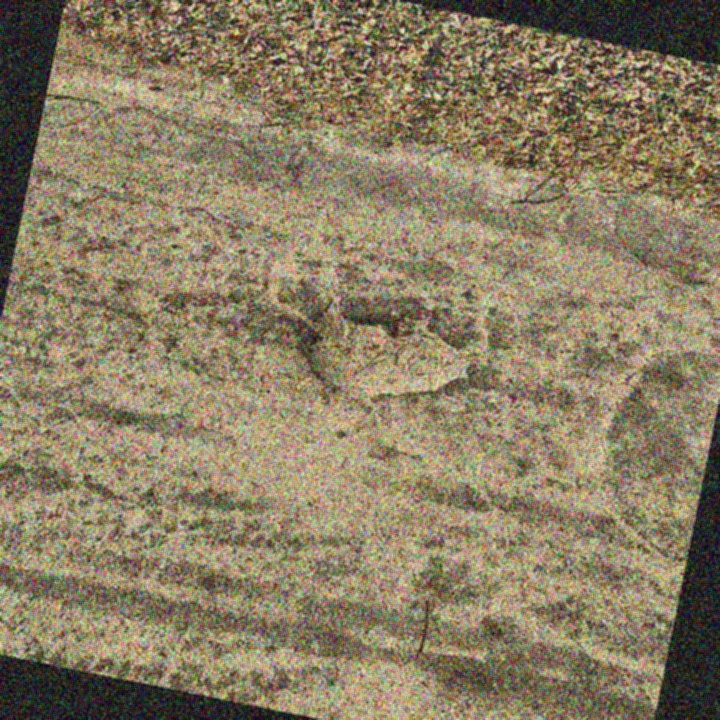pothole: (293, 287, 486, 418)
